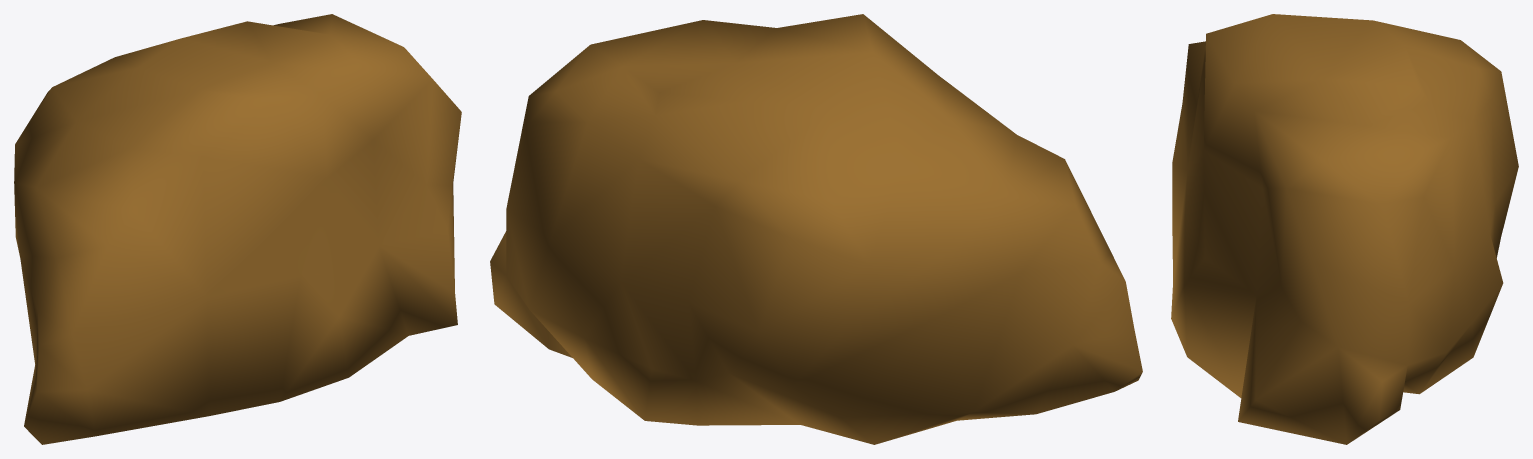
File: MSH_Rock_Single_06.FBX
3 views of the same model, side by side, from view 1: azimuth 30°, elevation 25°; view 2: azimuth 150°, elevation 25°; view 3: azimuth 270°, elevation 25° (orthographic). The views are drawn at different scales.
Parts seen in each view (by area): view 1: MESH_LOD0; view 2: MESH_LOD0; view 3: MESH_LOD0.
Part boxes in pixels (left/top/right/bottom): MESH_LOD0: left=14, top=14, right=461, bottom=444; MESH_LOD0: left=490, top=14, right=1142, bottom=444; MESH_LOD0: left=1171, top=14, right=1518, bottom=444.
Size of what is drawn, in the model's own units: 34.83 by 19.57 by 20.62.
